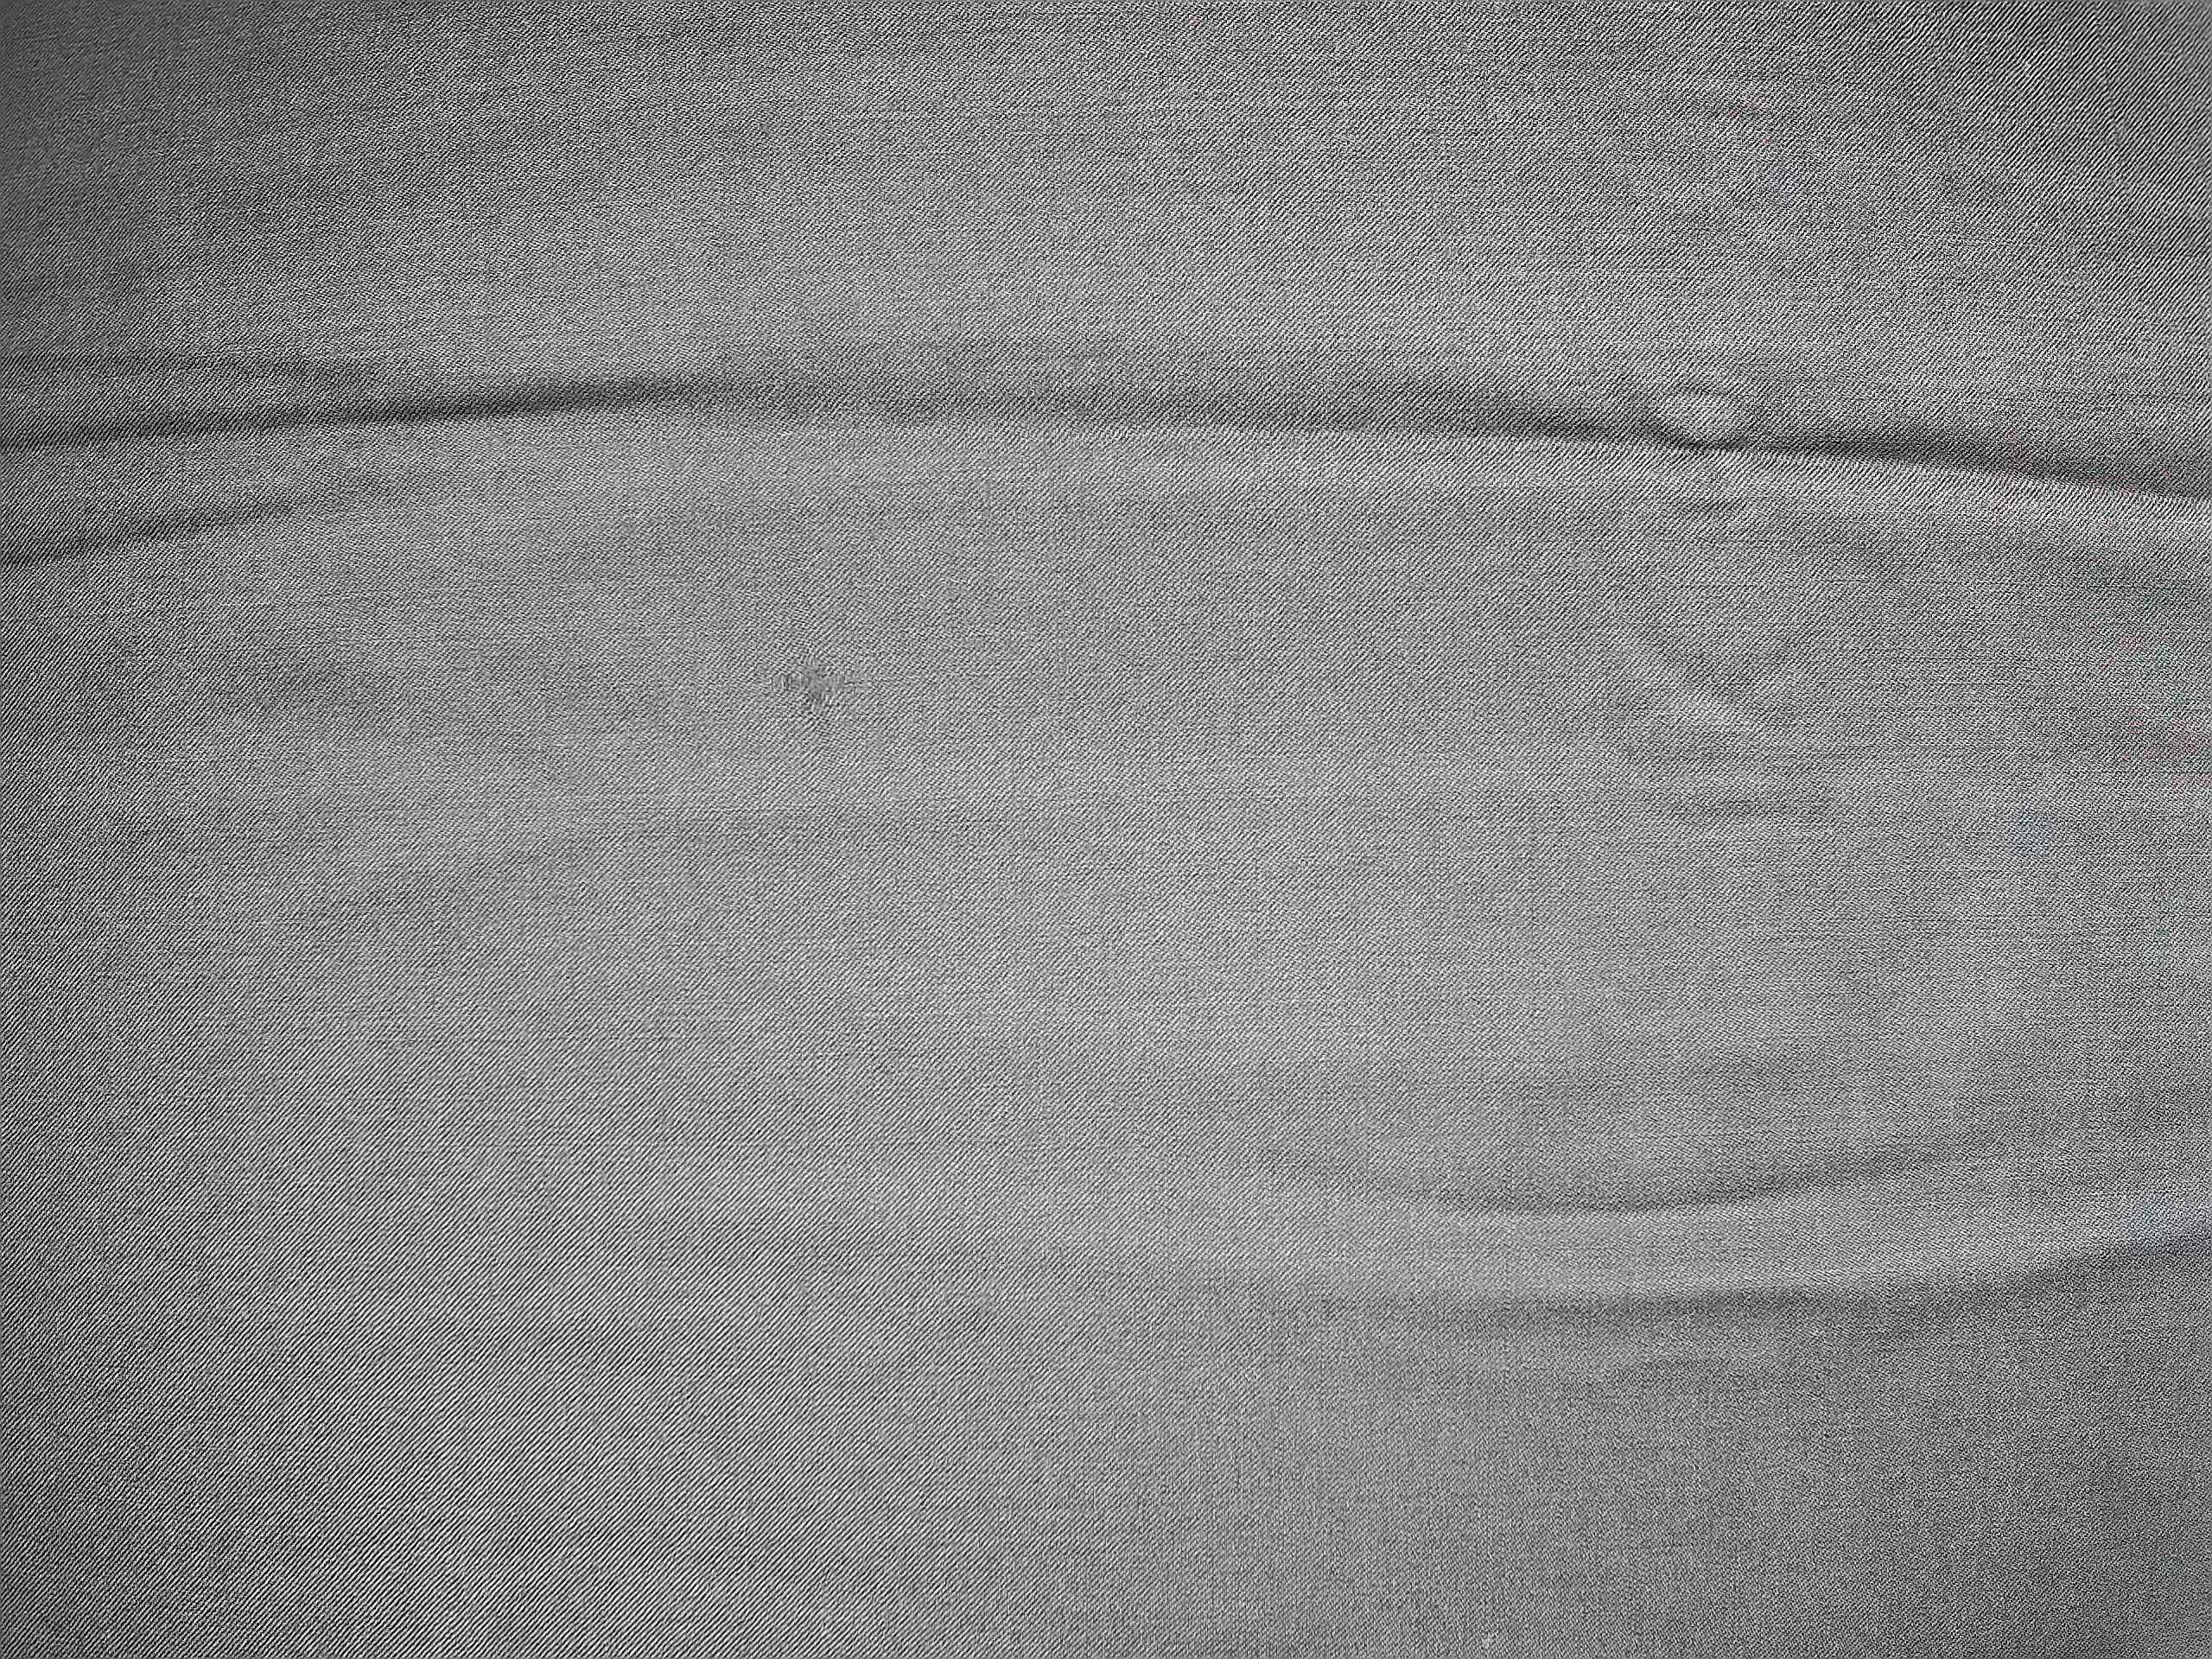brushed-hole: (756, 631, 880, 739)
